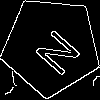N: (26, 21, 83, 78)
